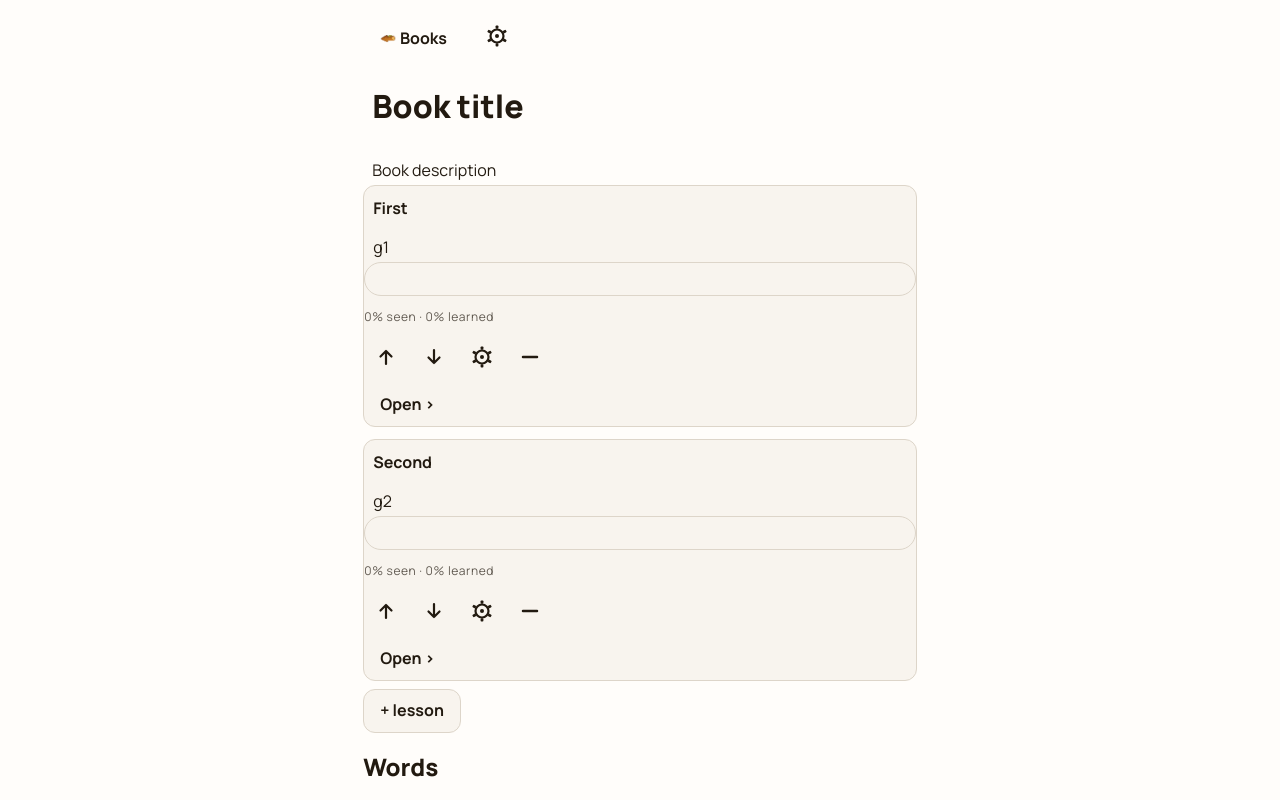
Test: BookScreen › moves icon, cover art and every source behind the header ⚙, off the page
Expected: the field labelled "Icon" is not shown
Expected: the field labelled "Cover art" is not shown
Click the button named "Book settings" at (497, 38), box [475,16,519,60]
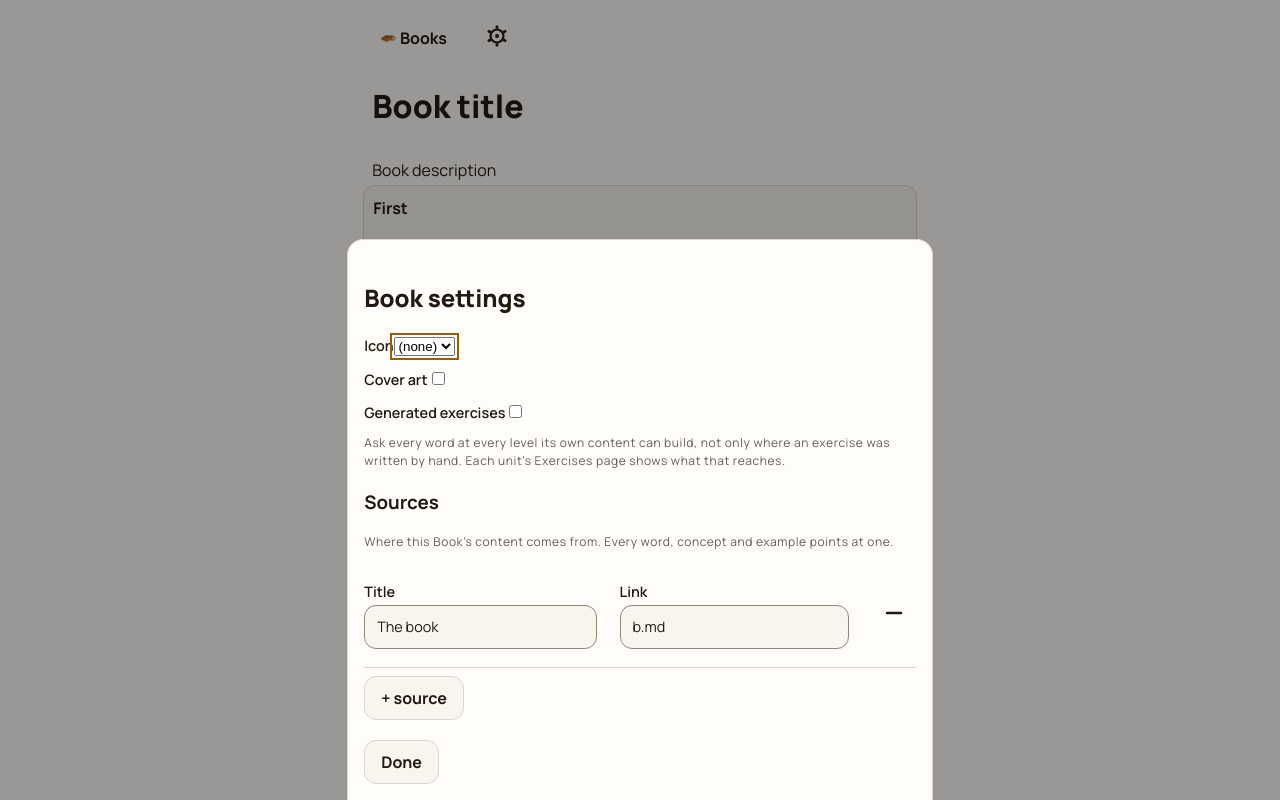
Expected: the dropdown labelled "Icon" is shown, [394,337,455,356]
Expected: the checkbox labelled "Cover art" is shown, [432,372,444,385]
Expected: the field showing "The book" is shown, [364,605,597,649]
